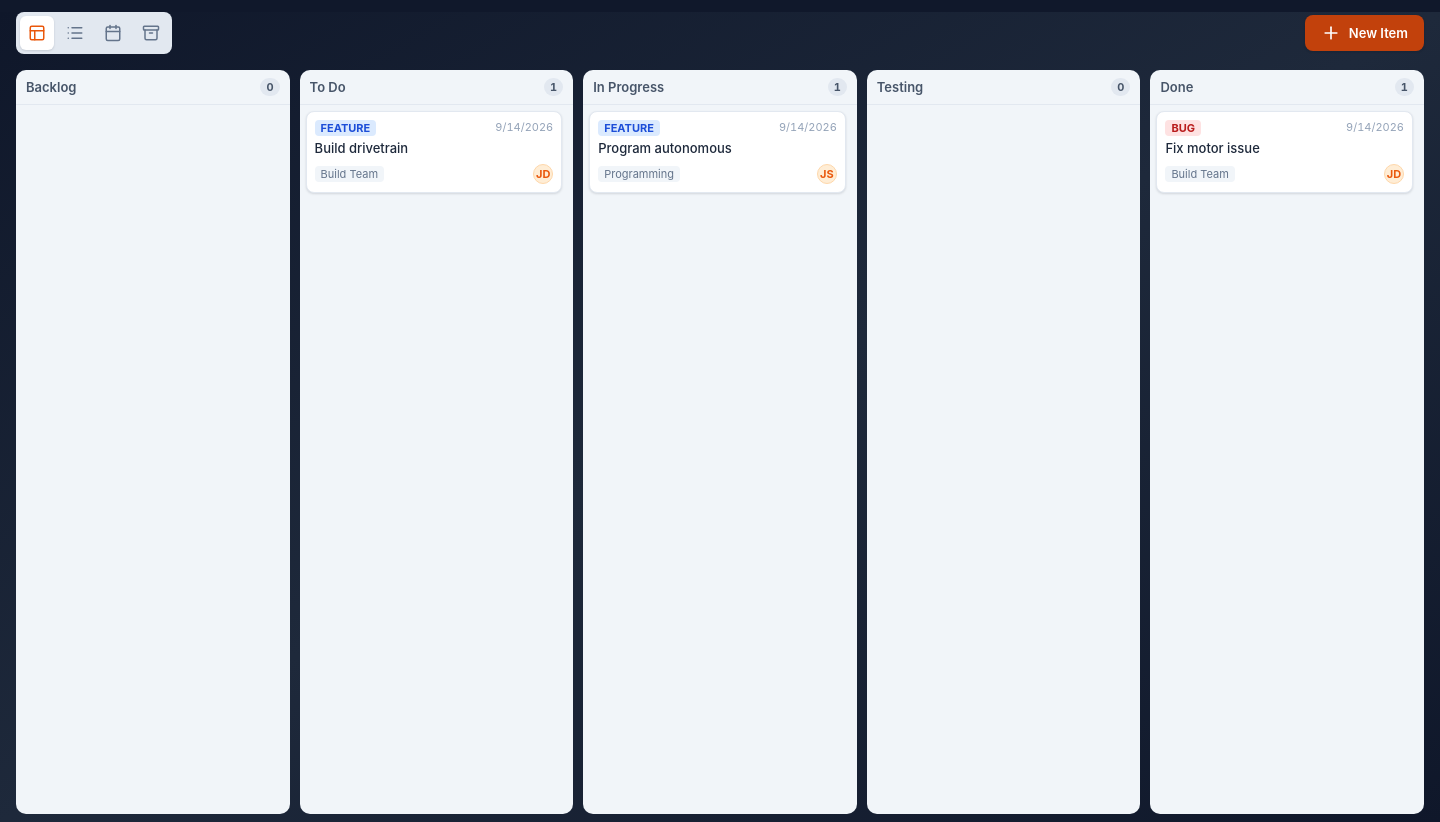
Test: SprintPlanning › Archive functionality › lists an archived task when there is one — the control
Click the button named "archived": click(151, 33) x1=134 y1=16 x2=168 y2=50
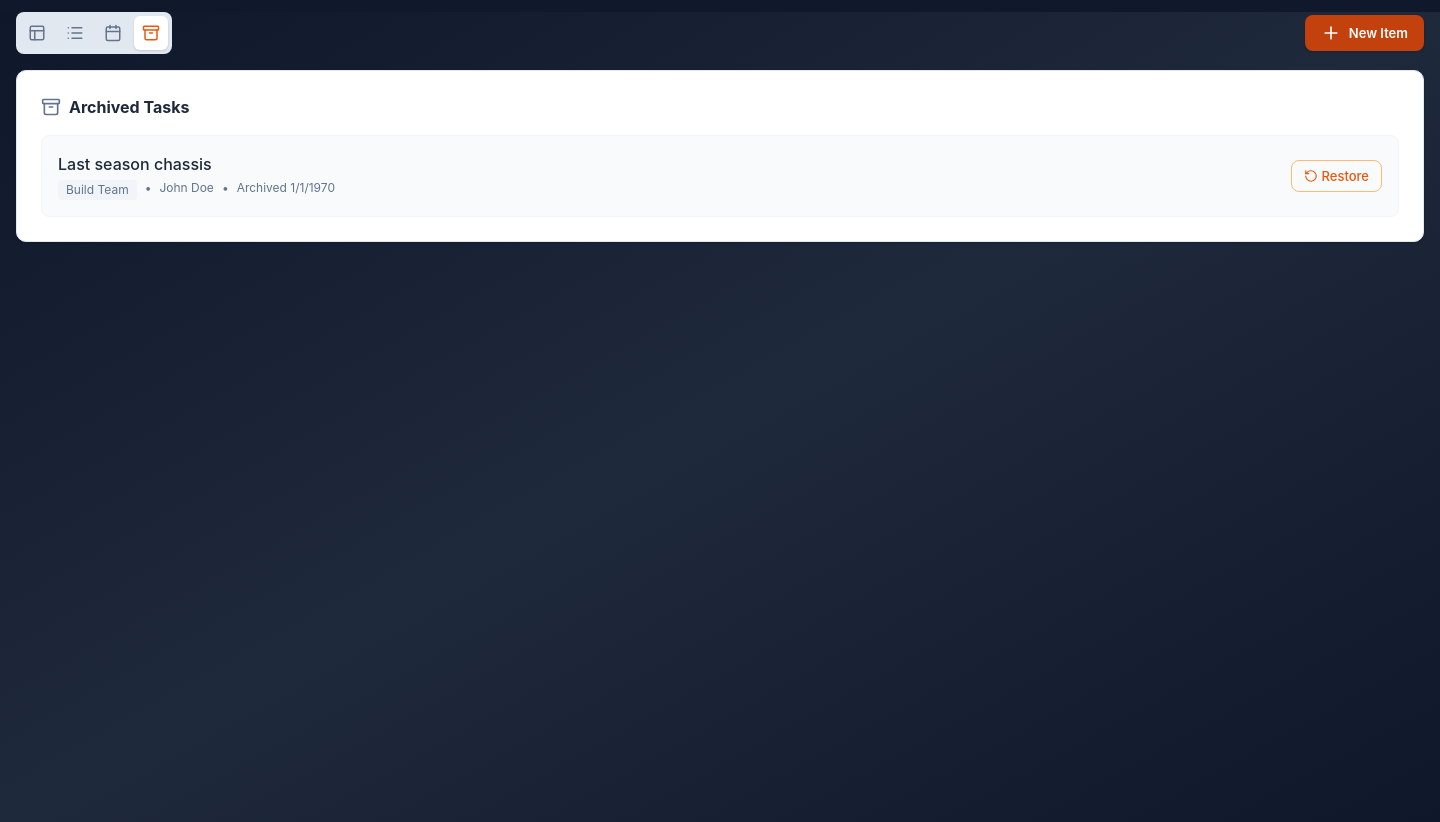
Result: the heading "Last season chassis" is shown at x1=58 y1=154 x2=212 y2=174
